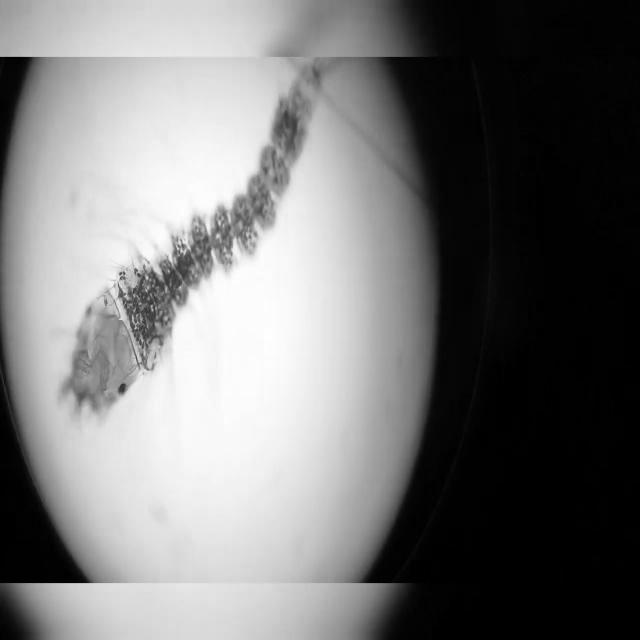larvas: (68, 68, 327, 410)
